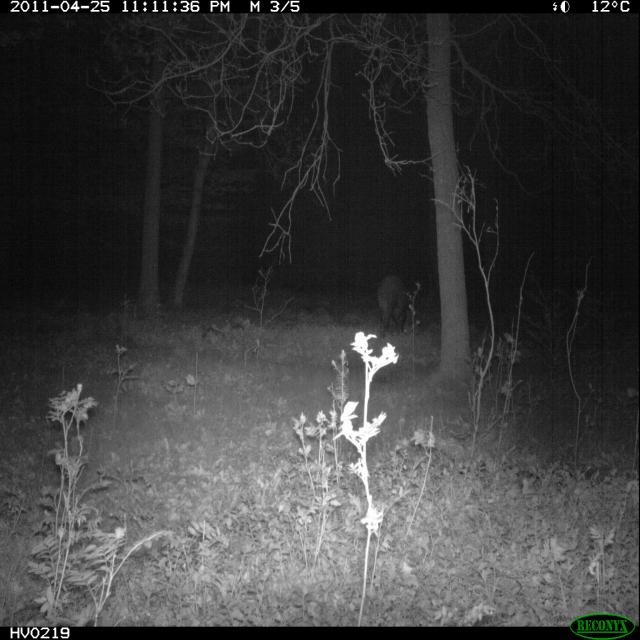boar: (364, 253, 426, 344)
